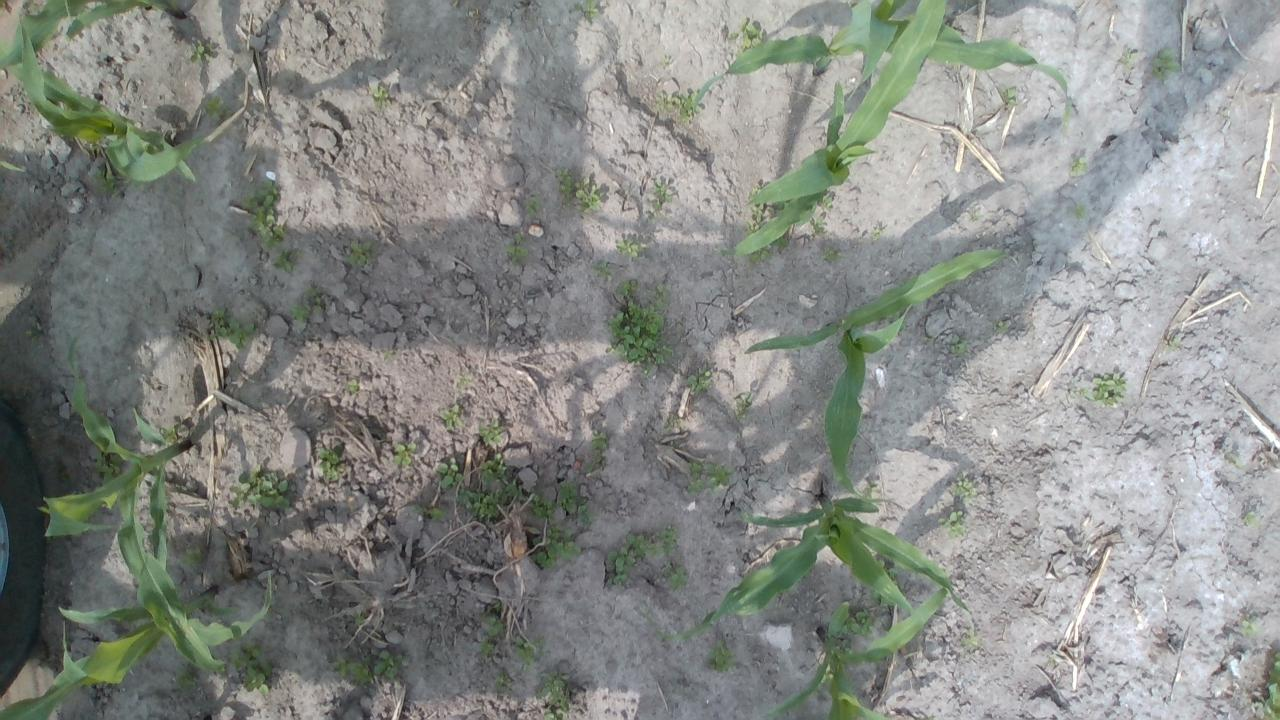Maize: (42, 336, 224, 678), (0, 584, 239, 720), (0, 40, 203, 187), (0, 0, 192, 71)
Weeds: (604, 299, 672, 376), (242, 178, 290, 249), (604, 532, 663, 587), (230, 464, 290, 510), (230, 636, 274, 696), (529, 524, 580, 569), (1249, 651, 1280, 720), (208, 309, 258, 349), (556, 480, 598, 526), (1080, 372, 1130, 409), (455, 488, 505, 520), (538, 670, 570, 720), (873, 557, 902, 607), (328, 656, 374, 686), (728, 17, 762, 56), (288, 285, 322, 323), (91, 164, 125, 201), (514, 635, 548, 671), (92, 446, 124, 483), (645, 178, 672, 221), (526, 490, 560, 524), (837, 609, 875, 638), (574, 176, 602, 214), (705, 638, 737, 671), (271, 246, 305, 276), (584, 430, 607, 474), (676, 90, 704, 126), (478, 452, 508, 485), (203, 94, 233, 124), (937, 509, 968, 538), (660, 556, 686, 590), (316, 449, 342, 482), (746, 187, 764, 234), (706, 463, 734, 493), (373, 651, 403, 679), (1152, 50, 1180, 80), (436, 457, 462, 488), (554, 166, 574, 206), (506, 232, 530, 264), (952, 475, 978, 503), (688, 364, 712, 394), (478, 417, 502, 446), (409, 504, 447, 522), (613, 237, 647, 257), (660, 524, 681, 554), (346, 240, 370, 266), (368, 82, 392, 108), (188, 38, 215, 61), (572, 0, 600, 21), (686, 460, 704, 492), (392, 442, 416, 466), (481, 612, 505, 635), (734, 390, 753, 419), (649, 283, 671, 308), (440, 403, 462, 428), (1240, 617, 1264, 638), (174, 668, 198, 689), (178, 546, 200, 568), (998, 83, 1019, 106), (523, 192, 544, 215), (747, 245, 772, 264), (661, 412, 686, 430), (618, 278, 640, 298), (161, 422, 181, 444), (821, 246, 845, 264), (656, 91, 676, 112), (590, 260, 613, 278), (1068, 156, 1088, 176), (959, 626, 979, 646), (1120, 48, 1140, 68), (950, 334, 968, 356), (494, 670, 512, 692), (504, 478, 522, 499), (808, 216, 826, 236), (478, 636, 494, 657), (1242, 512, 1262, 528), (834, 640, 854, 656), (1226, 452, 1244, 469), (768, 200, 788, 215), (1070, 202, 1086, 220), (1161, 338, 1180, 353), (992, 320, 1008, 336), (771, 235, 790, 248), (24, 329, 40, 344), (862, 481, 876, 498), (819, 194, 833, 210), (454, 374, 470, 388), (346, 377, 360, 393), (88, 140, 105, 152), (353, 612, 367, 626), (132, 180, 146, 191), (872, 228, 883, 241), (971, 210, 982, 222), (660, 56, 670, 69), (384, 350, 394, 360)
